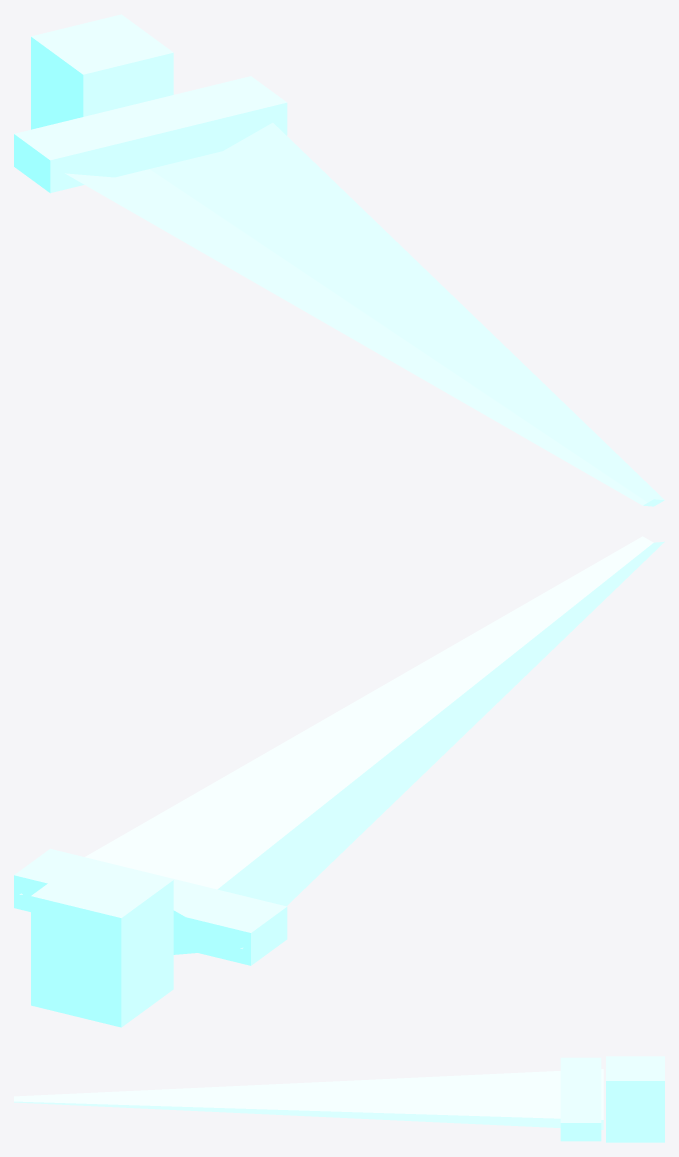
Rendered from blade.glb.
3 renders of one model, top to bottom at view 1: azimuth 30°, elevation 25°; view 2: azimuth 150°, elevation 25°; view 3: azimuth 270°, elevation 25°, orthographic. The views are drawn at different scales.
Size of the model in its own units: 0.34 by 0.15 by 1.44.
